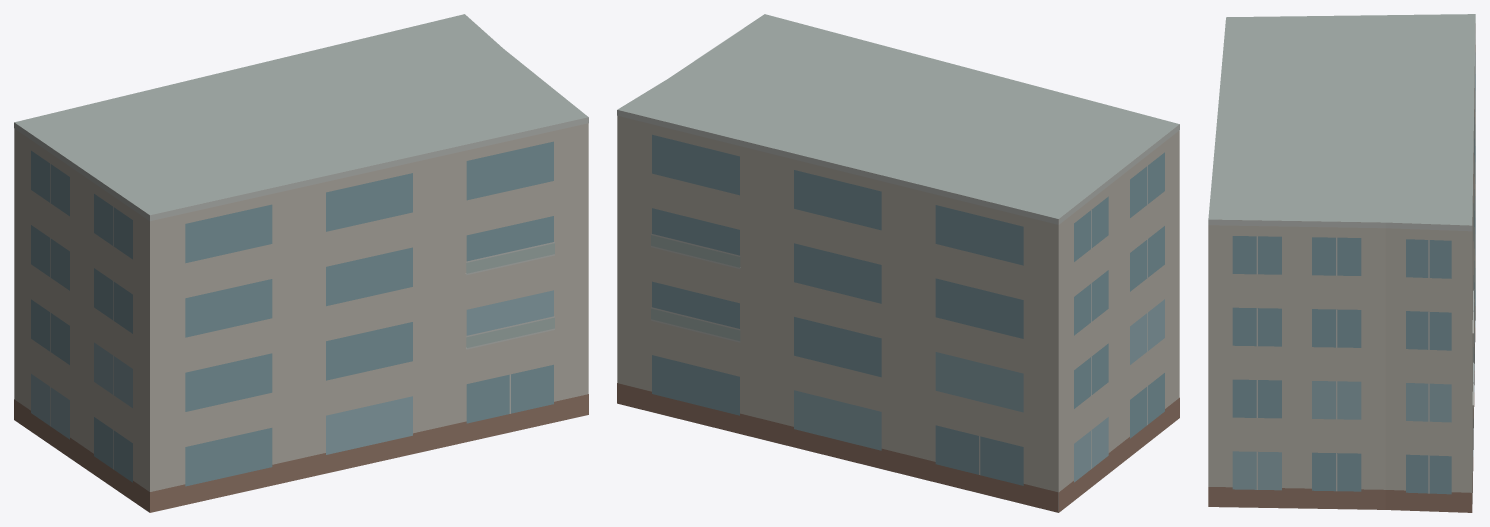
The model's file is survey-upis-32806231.glb.
3 renders of one model, left to right at view 1: azimuth 30°, elevation 25°; view 2: azimuth 150°, elevation 25°; view 3: azimuth 270°, elevation 25°, orthographic. The views are drawn at different scales.
Parts seen in each view (by area): view 1: survey-upis-32806231.tmp; view 2: survey-upis-32806231.tmp; view 3: survey-upis-32806231.tmp.
Part boxes in pixels (bbox=[...]): survey-upis-32806231.tmp: bbox=[14, 14, 588, 512]; survey-upis-32806231.tmp: bbox=[617, 14, 1179, 512]; survey-upis-32806231.tmp: bbox=[1208, 14, 1475, 512].
Bounding box in the file's own units: 19.27 × 12.2 × 10.3.
